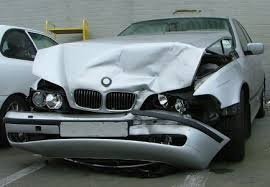Broken-glass: (30, 83, 74, 114), (149, 93, 193, 119)
Smashed: (1, 43, 244, 163)
